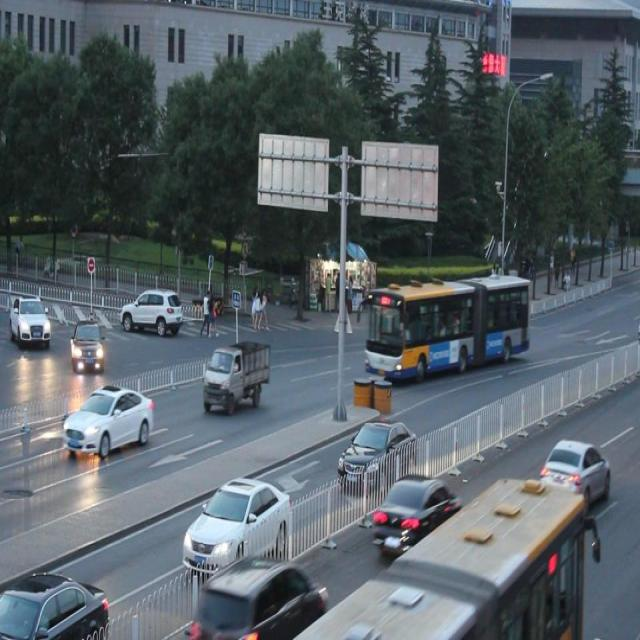bus: (202, 343, 268, 408)
car: (180, 477, 292, 572), (201, 558, 326, 640), (0, 567, 108, 640), (372, 474, 458, 552), (62, 384, 154, 456), (339, 419, 417, 484), (538, 436, 608, 501), (124, 288, 180, 334), (9, 294, 52, 344), (72, 320, 104, 370)
van: (294, 469, 582, 640), (367, 278, 529, 374)
